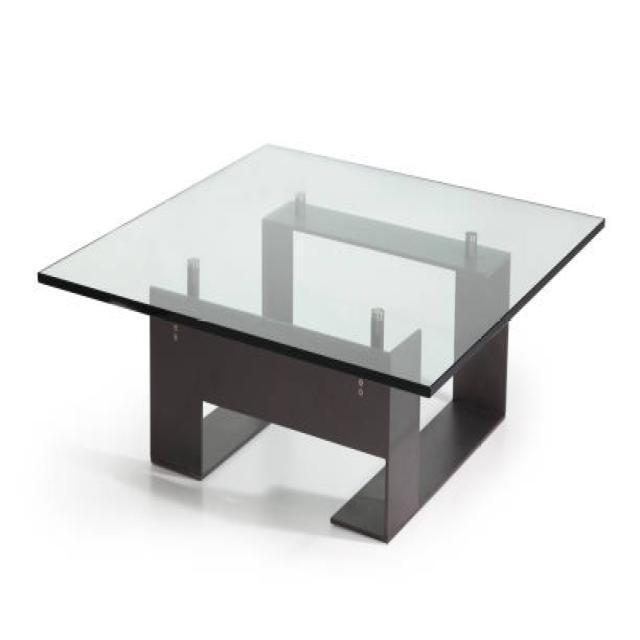table: (36, 140, 604, 545)
